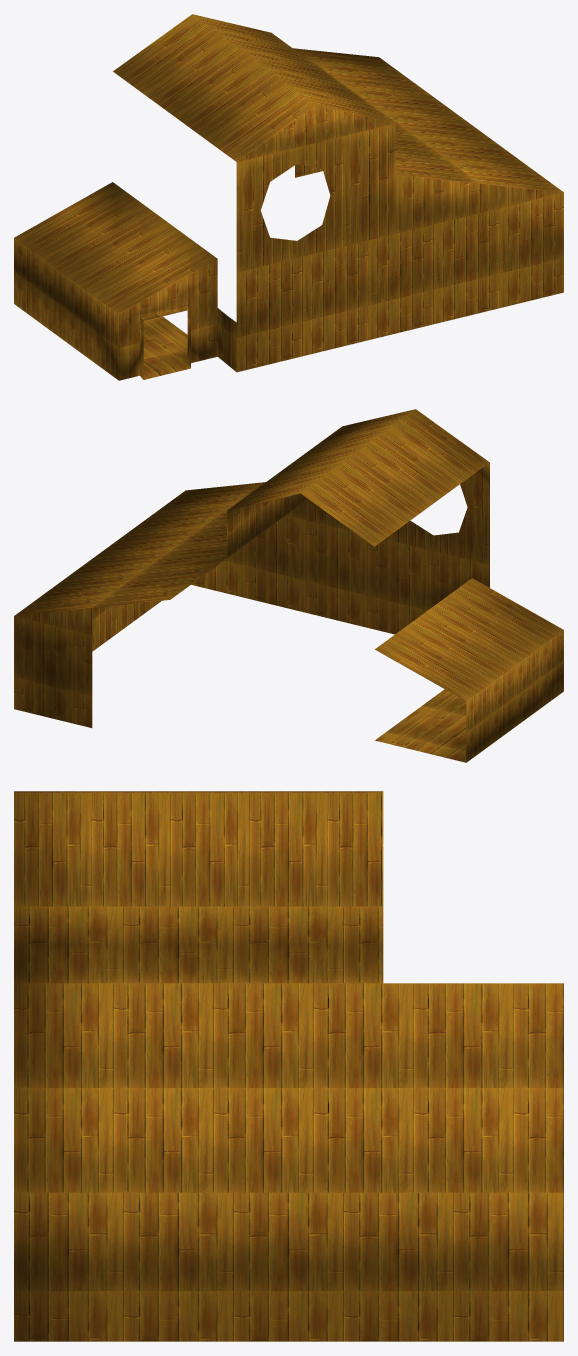
File: HTOWN01_MILL.fbx
3 views of the same model, one above another, from view 1: azimuth 30°, elevation 25°; view 2: azimuth 150°, elevation 25°; view 3: azimuth 270°, elevation 25° (orthographic). The views are drawn at different scales.
Visible parts, largest first — view 1: HTOWN01_MILL; view 2: HTOWN01_MILL; view 3: HTOWN01_MILL.
Part boxes in pixels (bbox=[...]): HTOWN01_MILL: bbox=[14, 14, 563, 380]; HTOWN01_MILL: bbox=[14, 409, 563, 762]; HTOWN01_MILL: bbox=[14, 791, 563, 1341].
Size of the model in its own units: 166952 by 92878 by 125391.
1 material, 1 textured.
